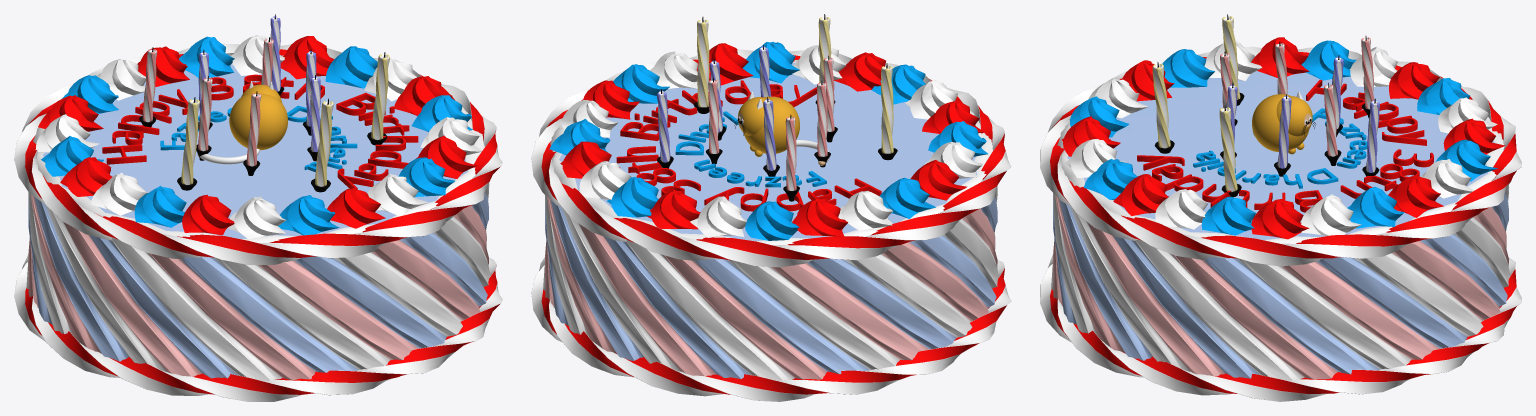
File: bcake.glb
The picture shows the model from 3 angles, left to right: view 1: azimuth 30°, elevation 25°; view 2: azimuth 150°, elevation 25°; view 3: azimuth 270°, elevation 25°; orthographic projection.
Visible parts, largest first — view 1: 10868_birthday-cake_v3, Text, fat cat obj.021, Text.001, yellow candle.002, yellow candle, yellow candle.001, red candle.003, red candle.004, red candle.002, blue candle.001, blue candle.004 (+3 smaller); view 2: 10868_birthday-cake_v3, Text, Text.001, fat cat obj.021, yellow candle.002, yellow candle, red candle.002, red candle.004, red candle, blue candle, blue candle.004, fat cat obj.008 (+4 smaller); view 3: 10868_birthday-cake_v3, Text, Text.001, fat cat obj.021, yellow candle.001, yellow candle, red candle, blue candle.002, blue candle.004, yellow candle.002, fat cat obj.008, red candle.002 (+3 smaller).
Part boxes in pixels (<box>): 10868_birthday-cake_v3: <box>14,35,502,401</box>; Text: <box>102,74,418,189</box>; fat cat obj.021: <box>229,93,287,150</box>; Text.001: <box>160,105,357,172</box>; yellow candle.002: <box>177,97,199,190</box>; yellow candle: <box>367,52,389,145</box>; yellow candle.001: <box>311,98,333,192</box>; red candle.003: <box>243,91,261,175</box>; red candle.004: <box>196,76,212,160</box>; red candle.002: <box>139,47,157,127</box>; blue candle.001: <box>307,75,320,161</box>; blue candle.004: <box>270,14,284,95</box>; 10868_birthday-cake_v3: <box>531,41,1011,401</box>; Text: <box>616,80,881,211</box>; Text.001: <box>675,111,826,187</box>; fat cat obj.021: <box>744,96,799,153</box>; yellow candle.002: <box>878,63,897,160</box>; yellow candle: <box>694,17,709,113</box>; red candle.002: <box>783,114,799,201</box>; red candle.004: <box>814,80,830,167</box>; red candle: <box>706,78,722,164</box>; blue candle: <box>763,97,779,176</box>; blue candle.004: <box>657,89,673,168</box>; fat cat obj.008: <box>737,97,766,135</box>; 10868_birthday-cake_v3: <box>1040,37,1521,401</box>; Text: <box>1137,80,1433,212</box>; Text.001: <box>1193,108,1367,188</box>; fat cat obj.021: <box>1252,94,1309,151</box>; yellow candle.001: <box>1152,62,1174,153</box>; yellow candle: <box>1219,105,1241,196</box>; red candle: <box>1323,83,1341,165</box>; blue candle.002: <box>1274,94,1291,176</box>; blue candle.004: <box>1362,98,1379,176</box>; yellow candle.002: <box>1222,14,1244,105</box>; fat cat obj.008: <box>1276,96,1312,136</box>; red candle.002: <box>1361,36,1374,118</box>.
Bounding box in the file's own units: 16.67 × 9.4 × 16.66.
